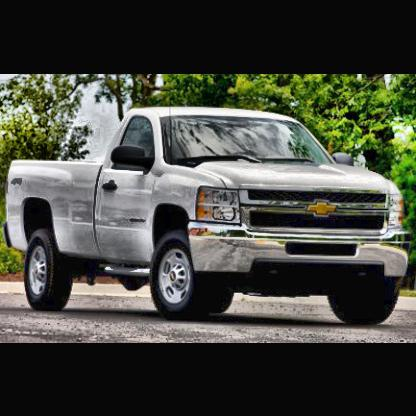Chevrolet Silverado 2500HD Regular Cab 2012: (7, 107, 411, 329)
